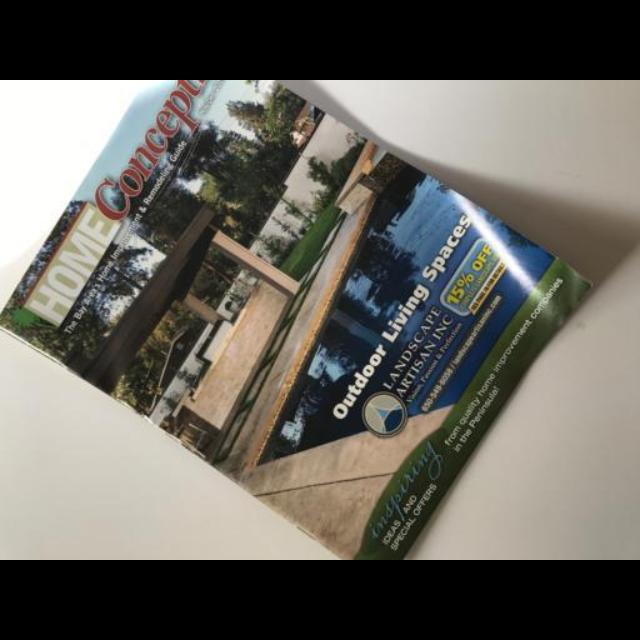papel: (4, 80, 596, 560)
